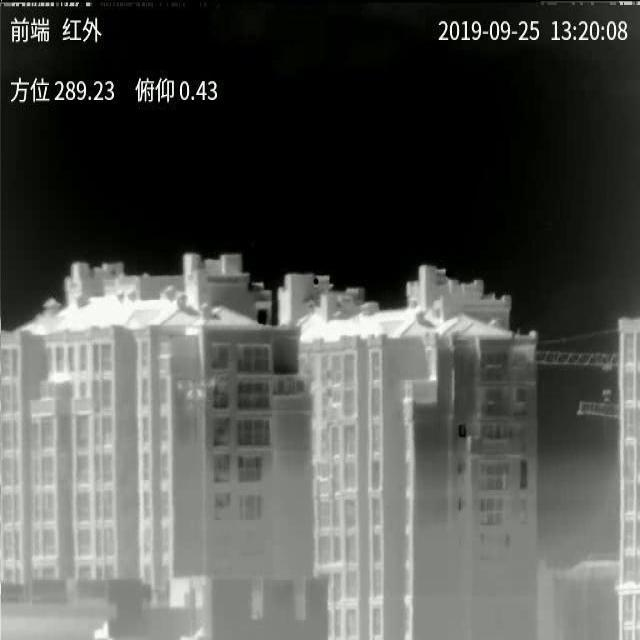drone: (177, 379, 216, 409)
